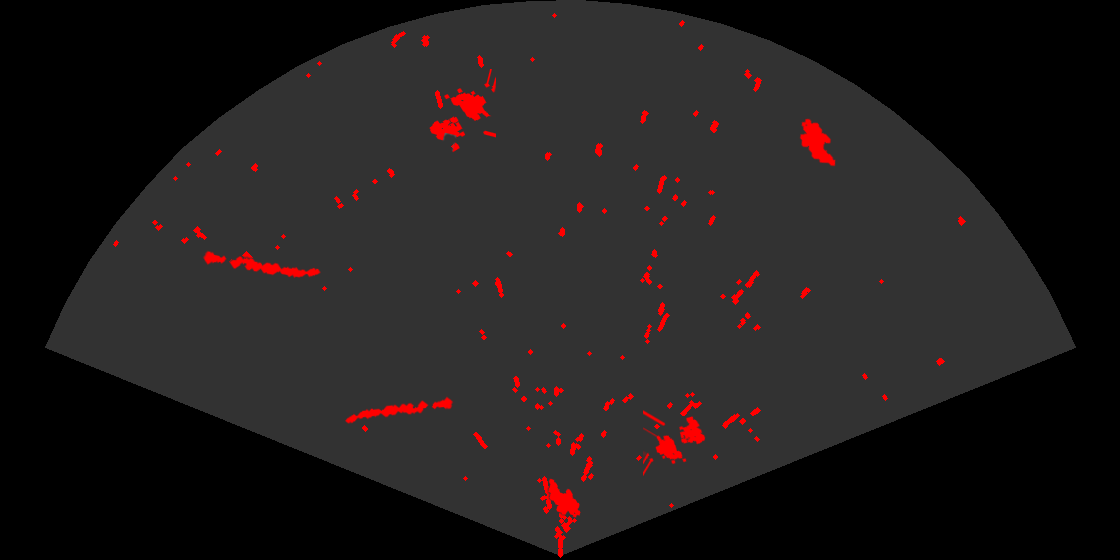AUV: (798, 117, 837, 168), (547, 477, 582, 519)
cage: (428, 69, 496, 154), (643, 409, 707, 478)
chain: (201, 249, 322, 280), (344, 395, 455, 425)
